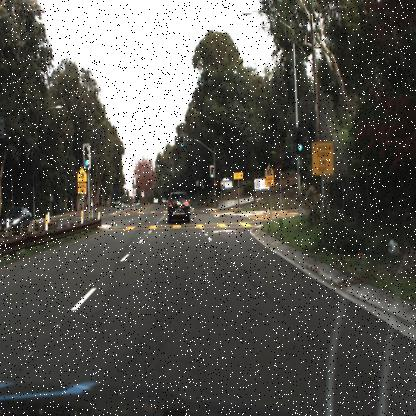car: (162, 191, 193, 227), (0, 207, 34, 236), (111, 194, 124, 209)
trafficLight-Green: (80, 136, 92, 174), (296, 124, 304, 156), (296, 133, 304, 159), (81, 157, 93, 171), (178, 132, 186, 150), (209, 161, 215, 182), (208, 166, 214, 184), (178, 142, 185, 152)
